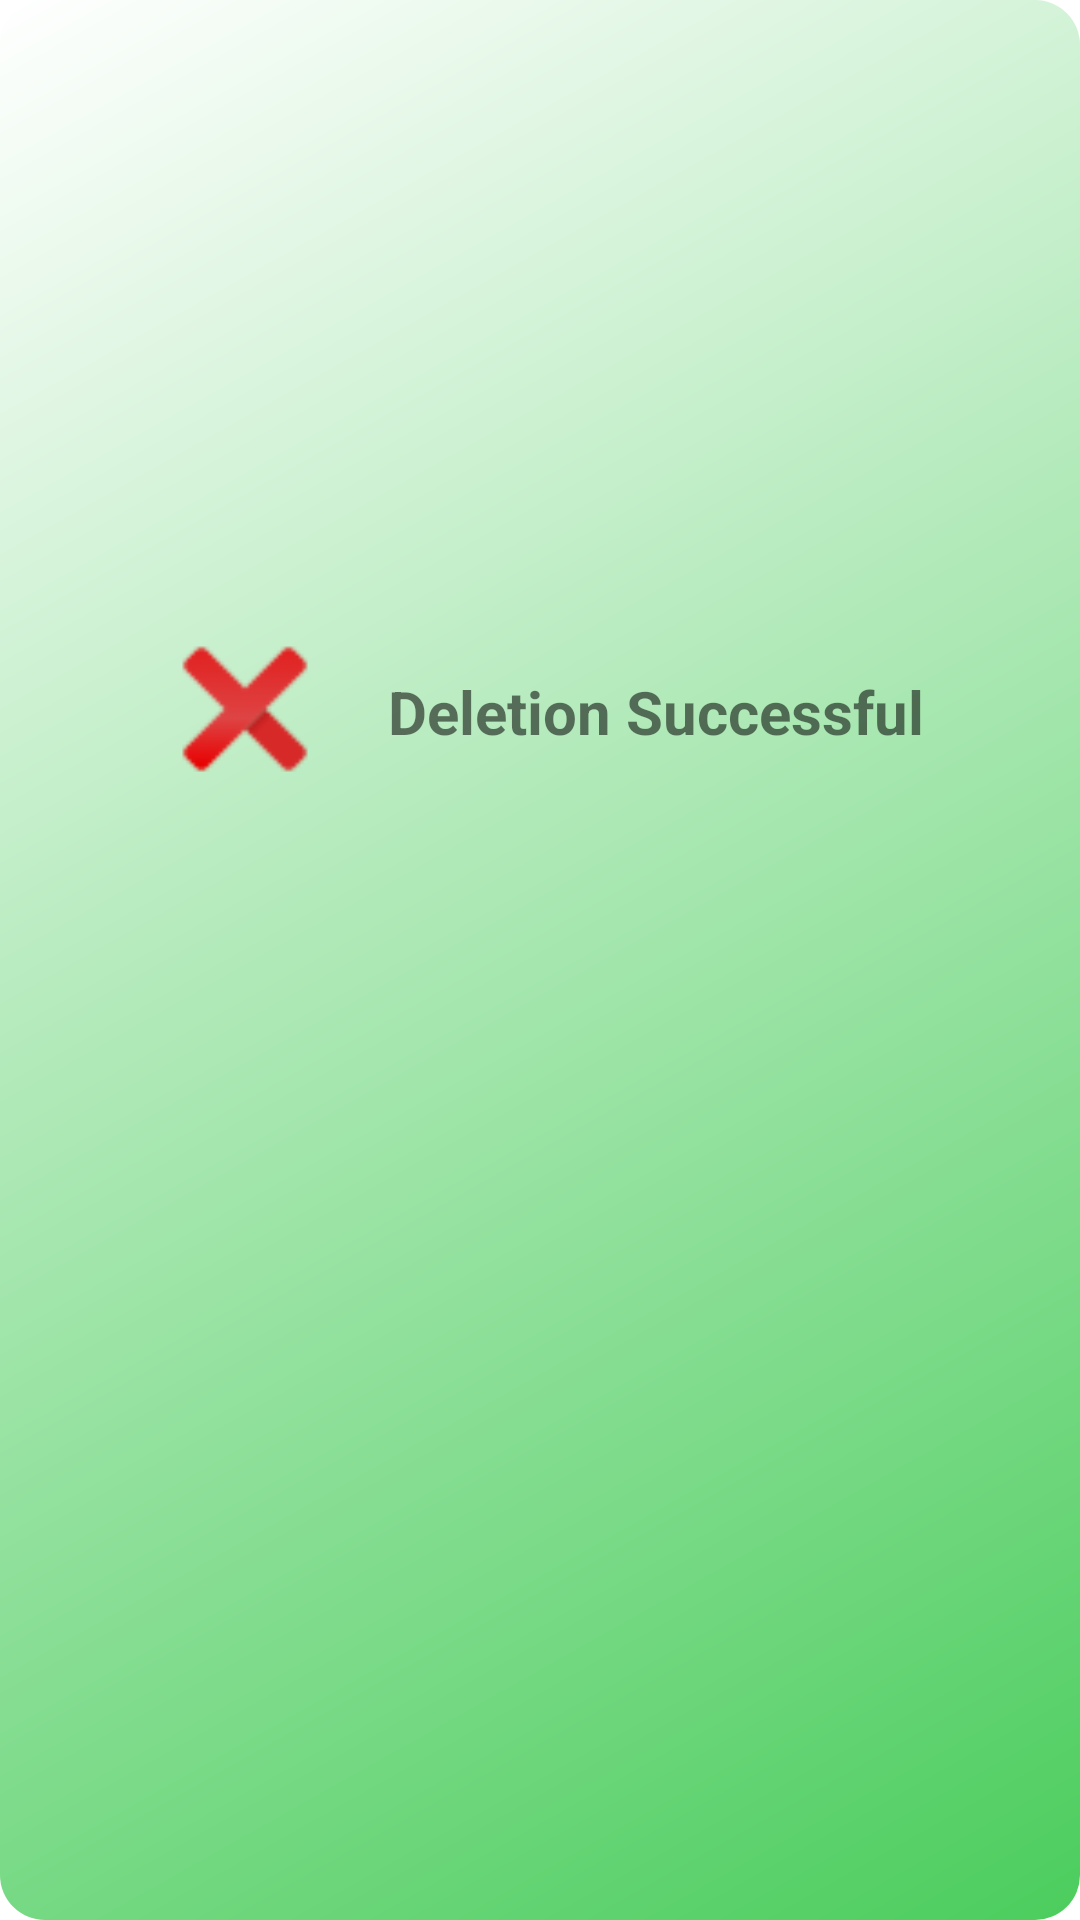

Icons on this 1080 x 1920 Android screen, each with its box as [left=x1, top=y1, right=x2, bottom=y2]:
multiply: [left=182, top=646, right=308, bottom=772]
